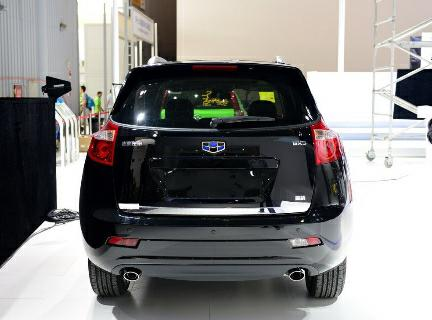吉利汽车-豪情SUV: (75, 56, 354, 304)
